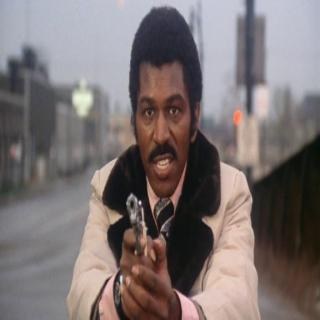gun: (106, 184, 177, 318)
